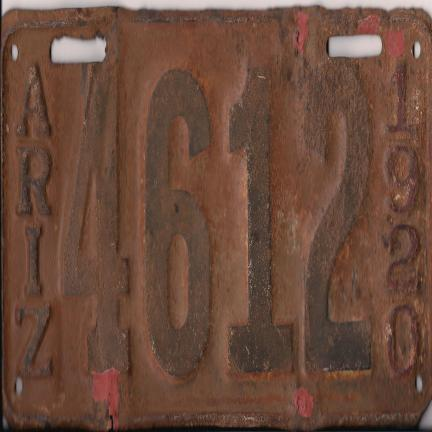karat: (0, 7, 431, 430)
